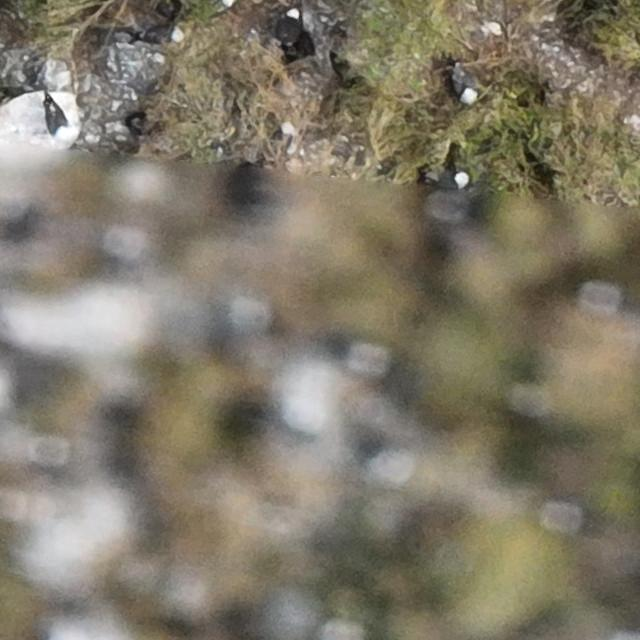umineko: (455, 69, 478, 101), (282, 10, 302, 46), (141, 26, 182, 42), (432, 170, 468, 188), (46, 107, 66, 139)
